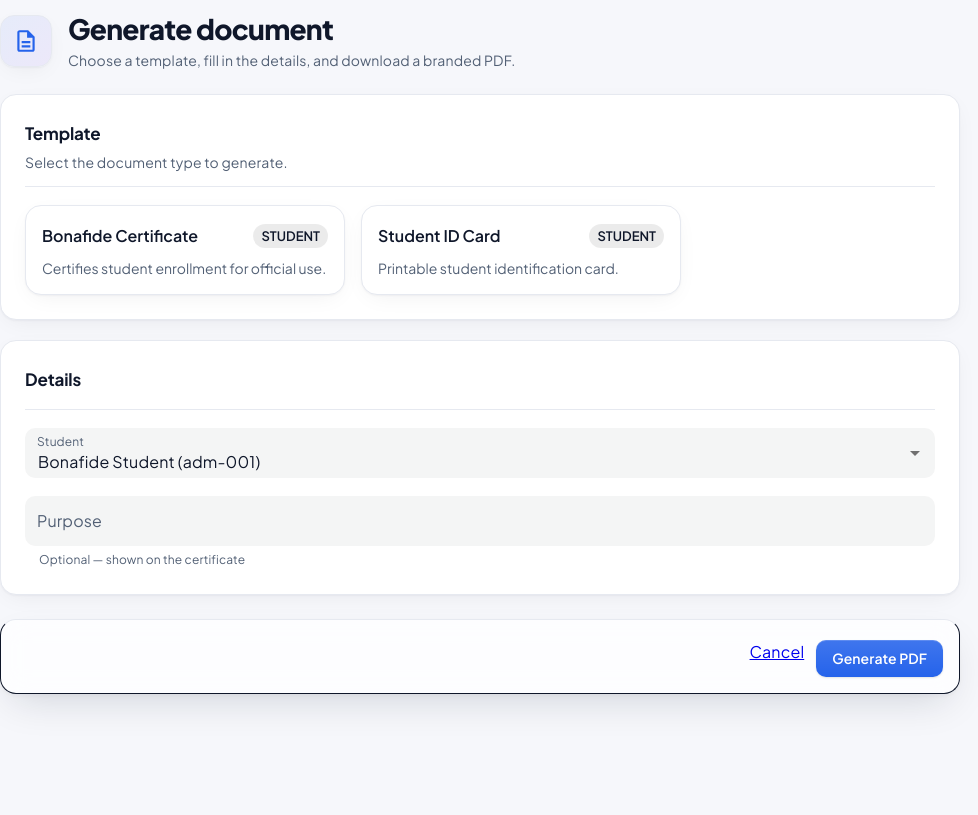
GenerateDocumentPage › loads students and generates a bonafide certificate
Expected: the dropdown "Bonafide Student (adm-001)" is shown, 38,451 -> 260,472
Click the button "Generate PDF" at (880, 658), box 816,640 -> 943,676
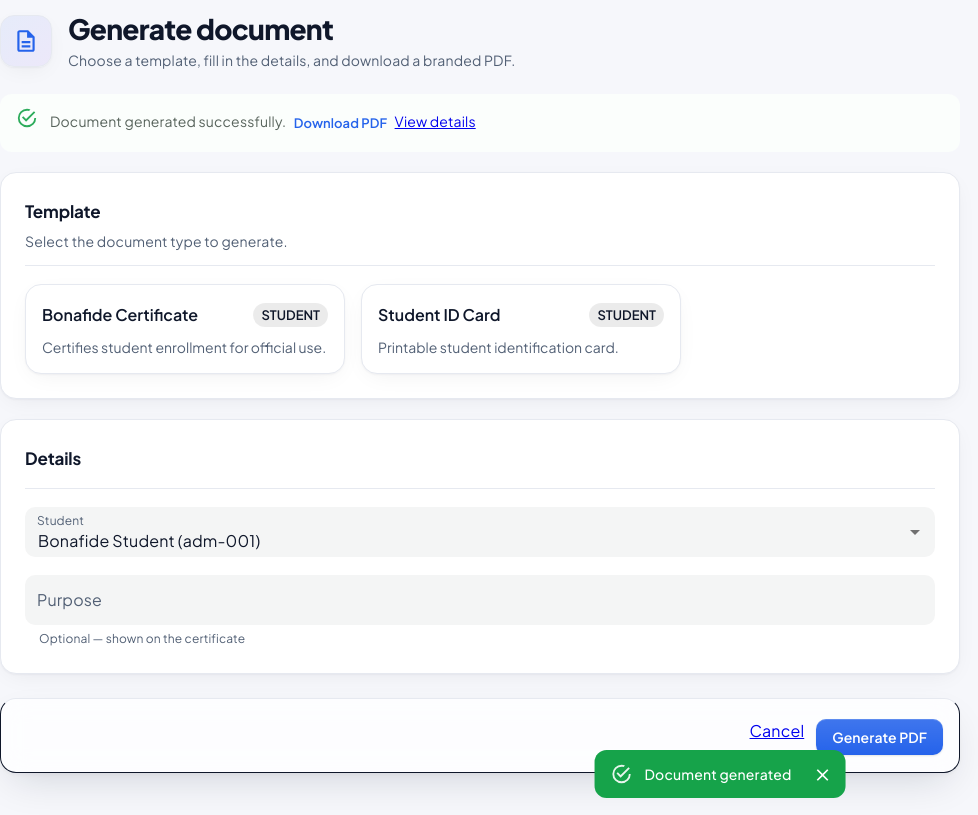
Expected: the text "Document generated successfully. Download PDF View details" is shown, 50,100 -> 476,146
